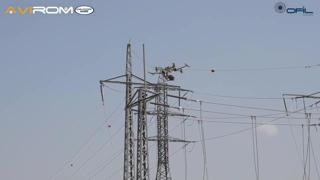UAV: (156, 63, 190, 74)
